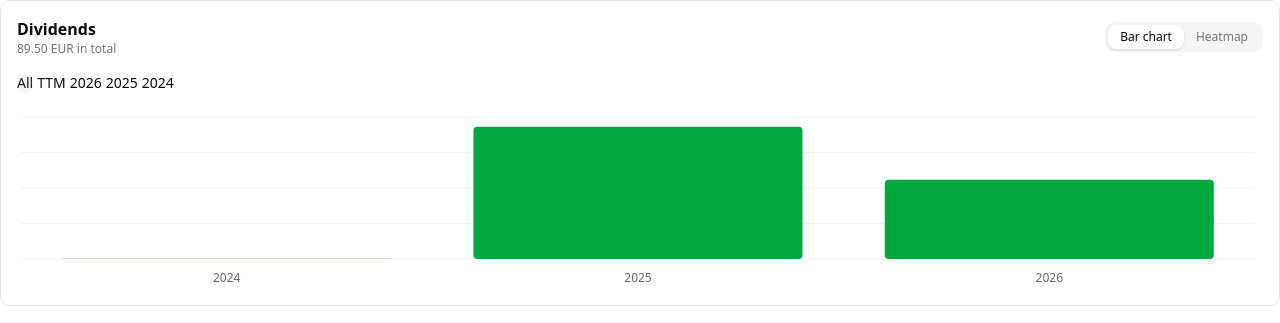
Scenario: DividendsCard › lays every month of every year out as a grid
Click the button "Heatmap" at (1222, 37), box [1184,25,1260,49]
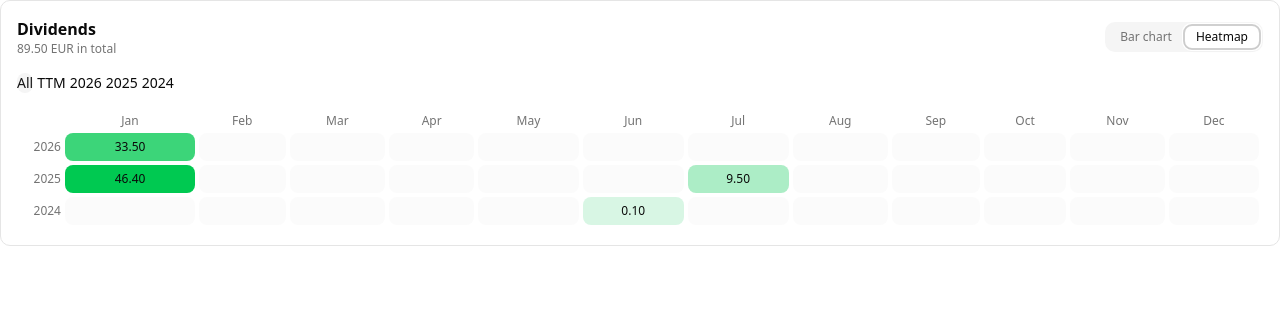
Expected: the column heading "2026" is shown, [21,133,61,161]
Now the column heading "Jan" is shown, box [65,113,195,129]
Now the text "46.40" is shown, box [65,165,195,193]
